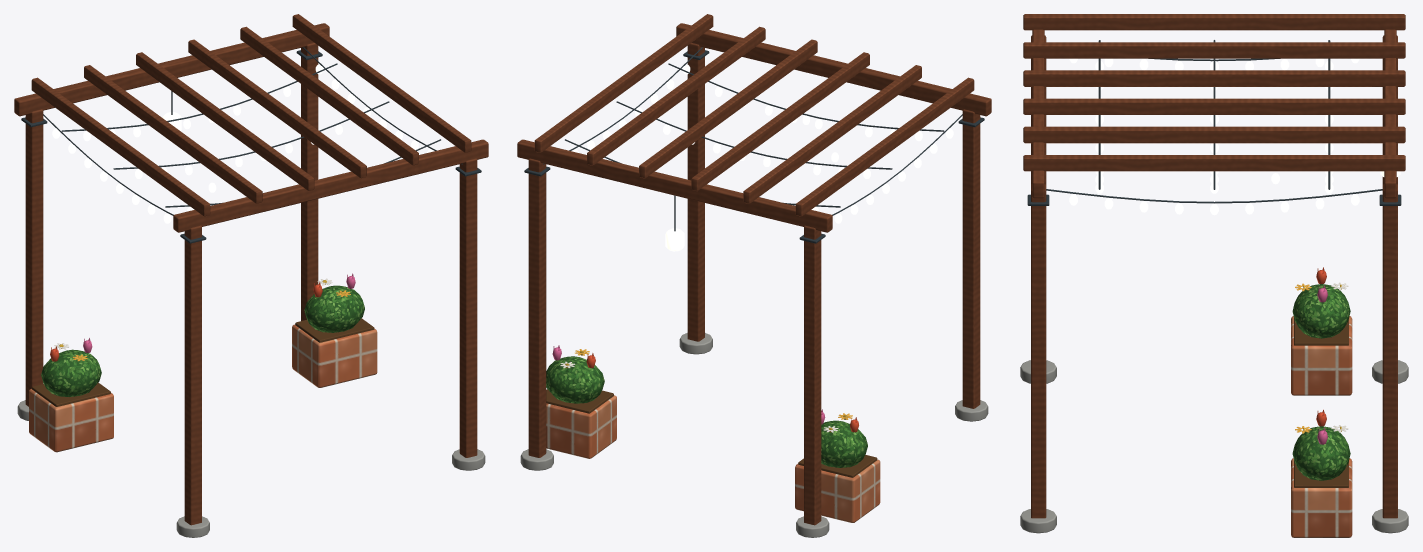
File: festoon-pergola.fbx
3 views of the same model, side by side, from view 1: azimuth 30°, elevation 25°; view 2: azimuth 150°, elevation 25°; view 3: azimuth 270°, elevation 25° (orthographic). The views are drawn at different scales.
Visible parts, largest first — view 1: Body; view 2: Body; view 3: Body.
Part boxes in pixels (left/top/right/bottom): Body: left=14, top=14, right=488, bottom=537; Body: left=517, top=14, right=991, bottom=537; Body: left=1020, top=14, right=1408, bottom=537.
Bounding box in the file's own units: 2.7 × 2.64 × 2.54.
